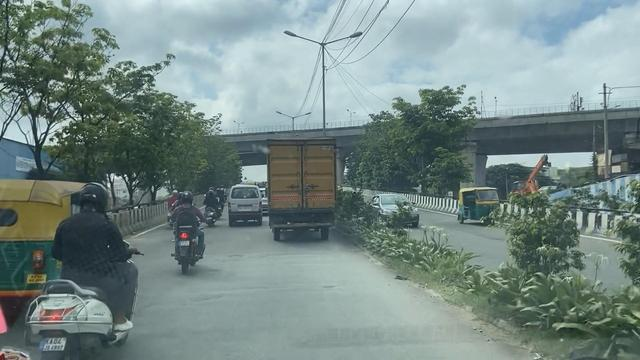HMV: (269, 138, 339, 244)
LMV: (35, 191, 149, 358), (168, 192, 208, 272), (227, 187, 259, 228)
